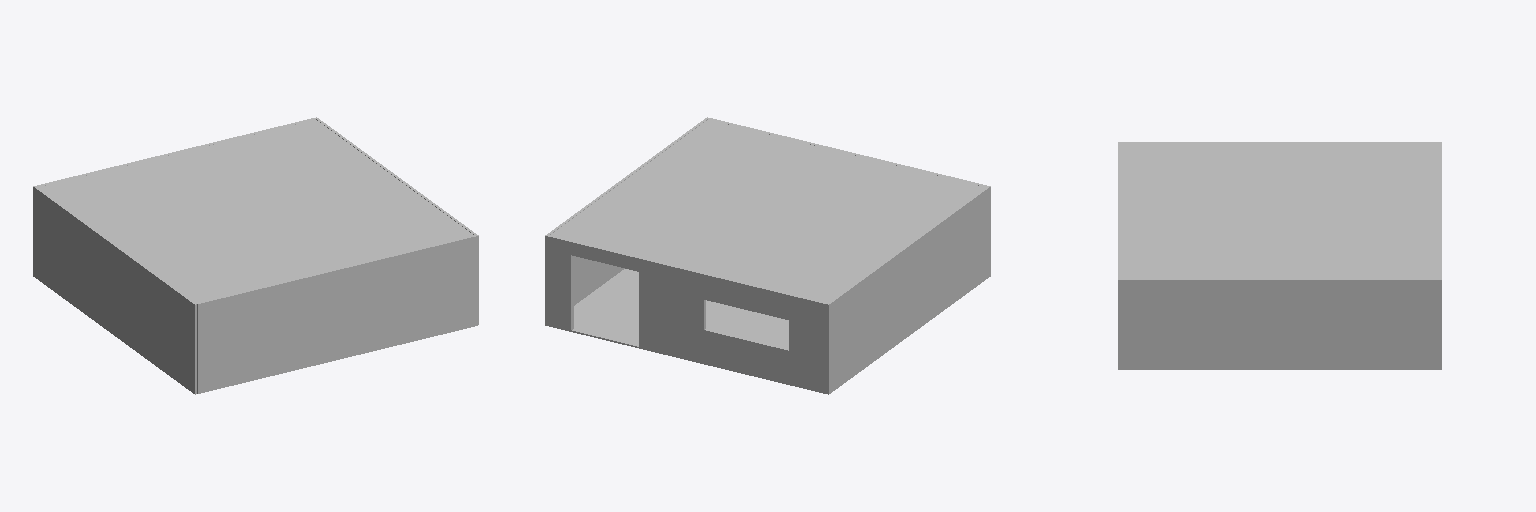
File: quarto.obj
The picture shows the model from 3 angles: view 1: azimuth 30°, elevation 25°; view 2: azimuth 150°, elevation 25°; view 3: azimuth 270°, elevation 25°; orthographic projection.
Parts seen in each view (by area): view 1: quarto_Cube.003_Cube.010; view 2: quarto_Cube.003_Cube.010; view 3: quarto_Cube.003_Cube.010.
Boxes of the visible parts, box(x1,y1,x2,y2) form: quarto_Cube.003_Cube.010: box(33, 117, 478, 394); quarto_Cube.003_Cube.010: box(545, 117, 990, 394); quarto_Cube.003_Cube.010: box(1118, 142, 1441, 369).
Bounding box in the file's own units: 25.3 × 7.67 × 25.02.